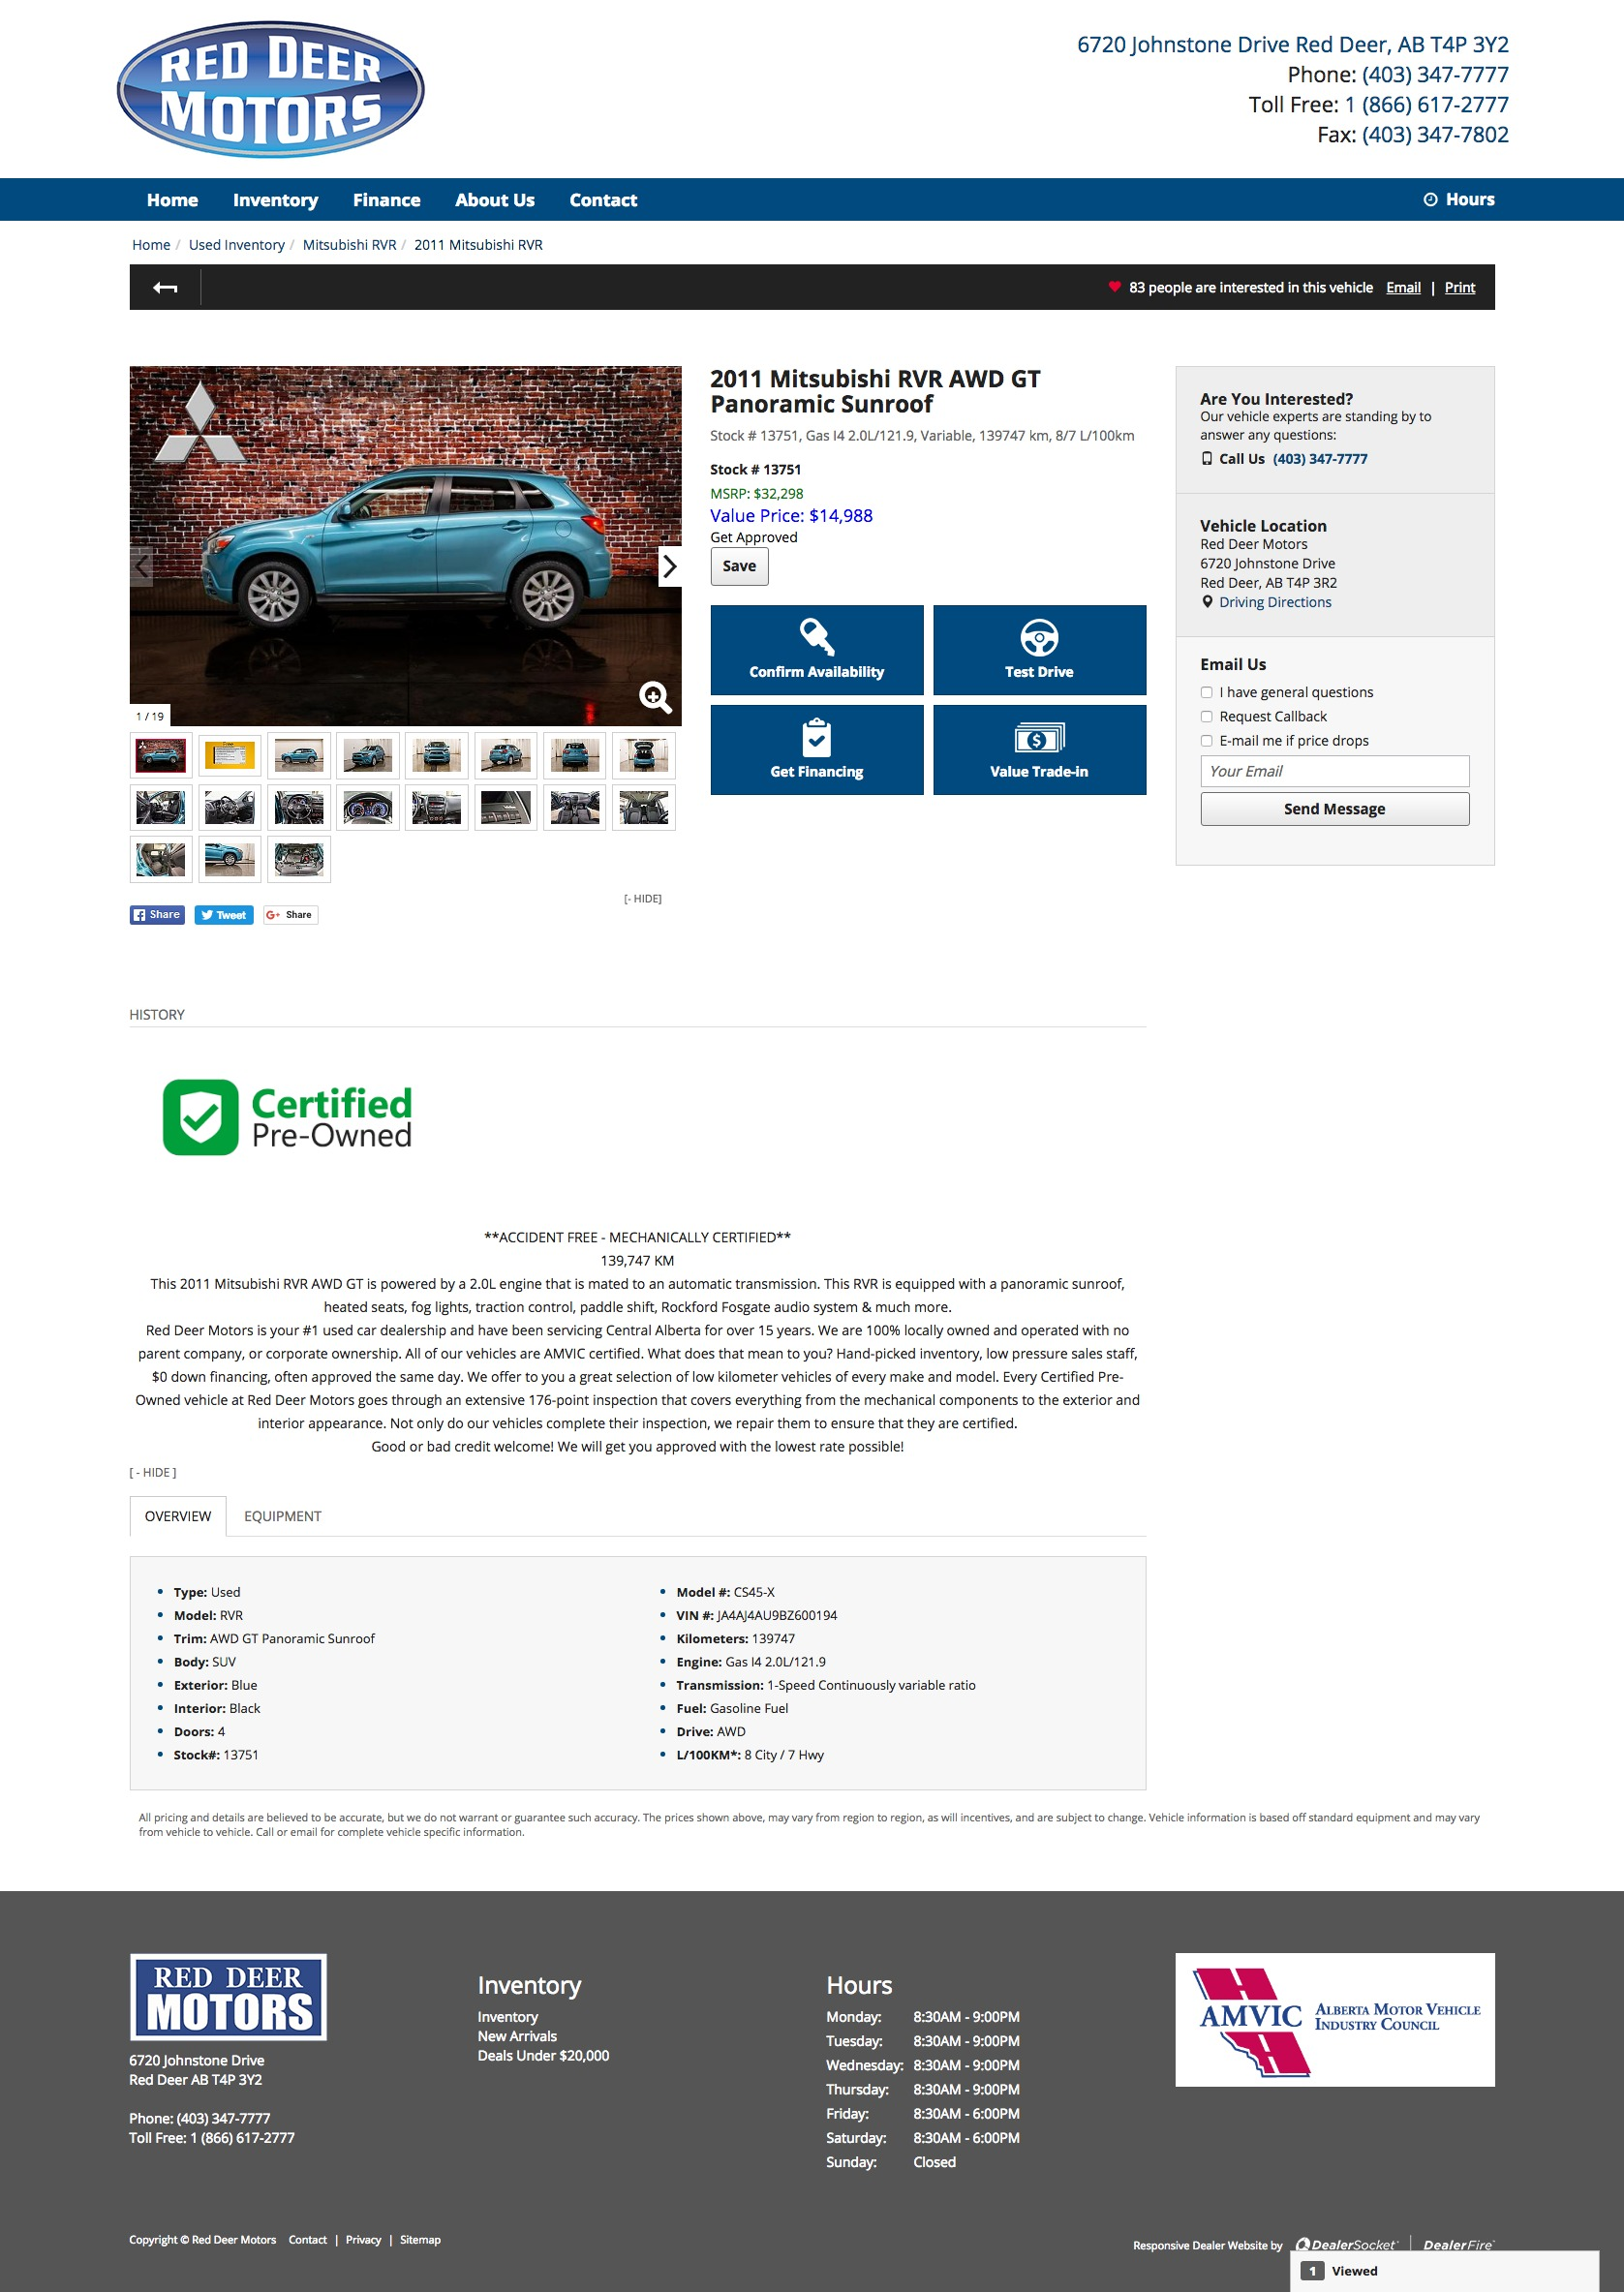car: (657, 547, 689, 589)
